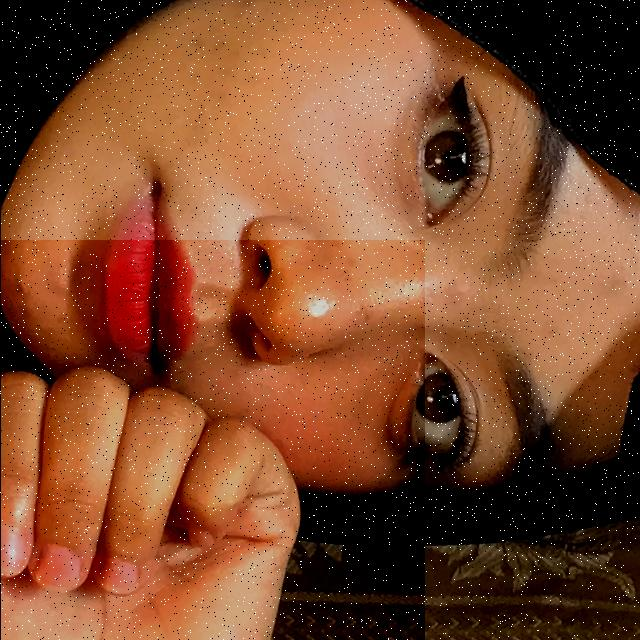sedih: (0, 240, 424, 640)
